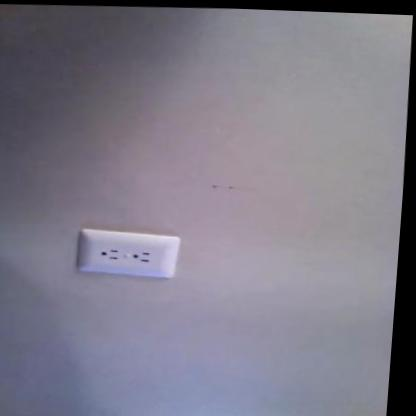OUTLET: (77, 228, 179, 276)
